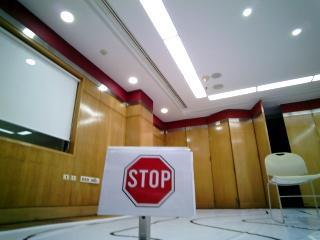stop: (109, 151, 182, 208)
